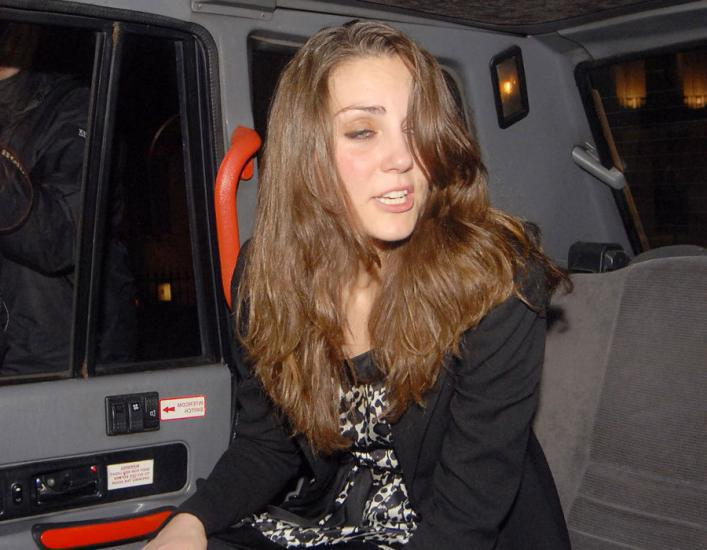Drunk: (325, 57, 430, 242)
